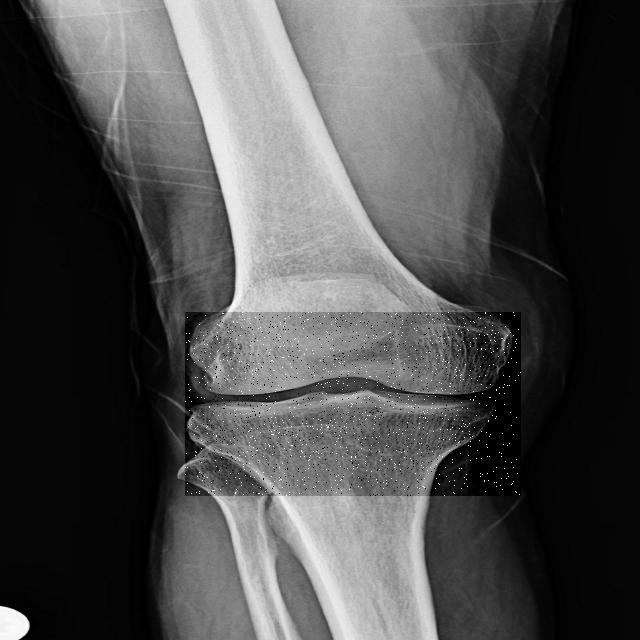osteo: (185, 312, 521, 496)
